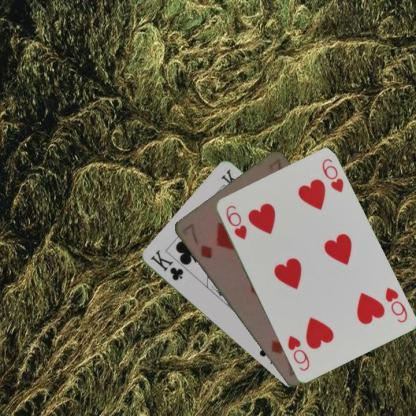6h: (382, 284, 408, 324), (222, 202, 248, 241)
7d: (179, 221, 213, 260)
Kc: (148, 247, 184, 282)
